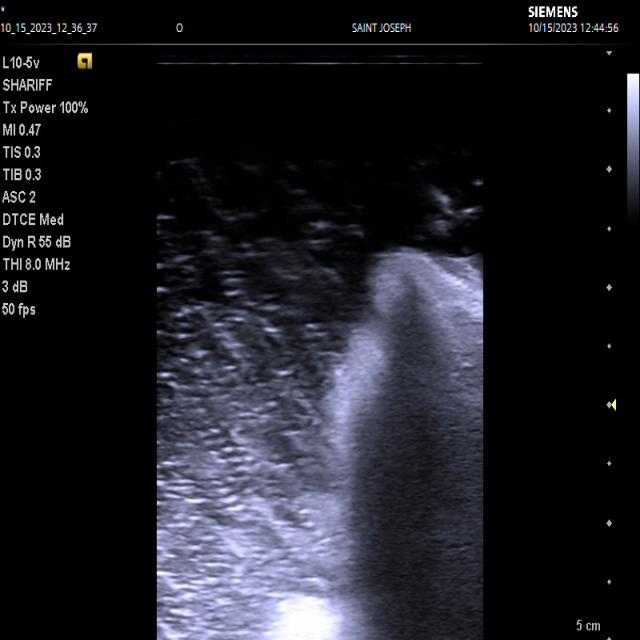tissue: (272, 250, 485, 640)
